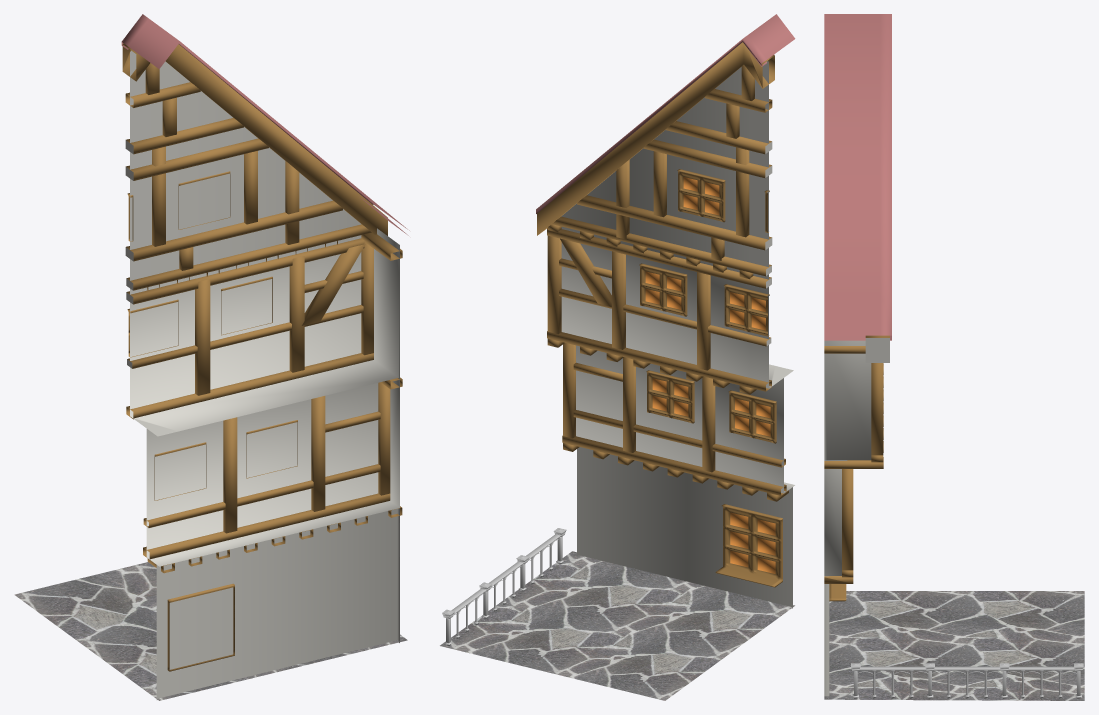
File: ArealGarden_Template.fbx
3 renders of one model, left to right at view 1: azimuth 30°, elevation 25°; view 2: azimuth 150°, elevation 25°; view 3: azimuth 270°, elevation 25°, orthographic. The views are drawn at different scales.
Visible parts, largest first — view 1: Base_Ground; view 2: Base_Ground; view 3: Base_Ground.
Part boxes in pixels (x1,y1,x2,y2): Base_Ground: (14,14,409,700); Base_Ground: (440,14,795,700); Base_Ground: (824,14,1084,700).
Bounding box in the file's own units: 7 × 17.43 × 7.
